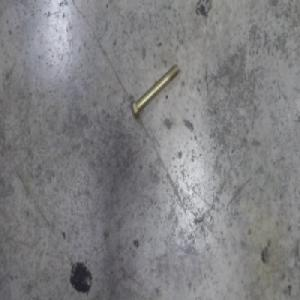Bolt: (129, 63, 179, 120)
